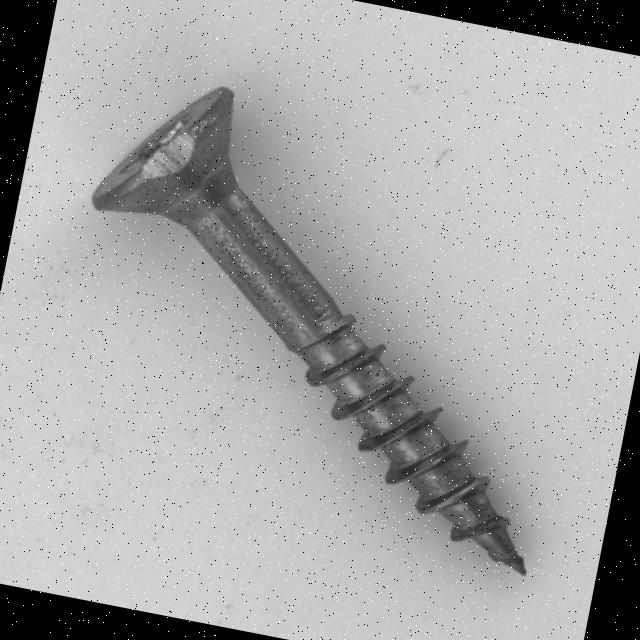scratch_head: (133, 124, 196, 191)
